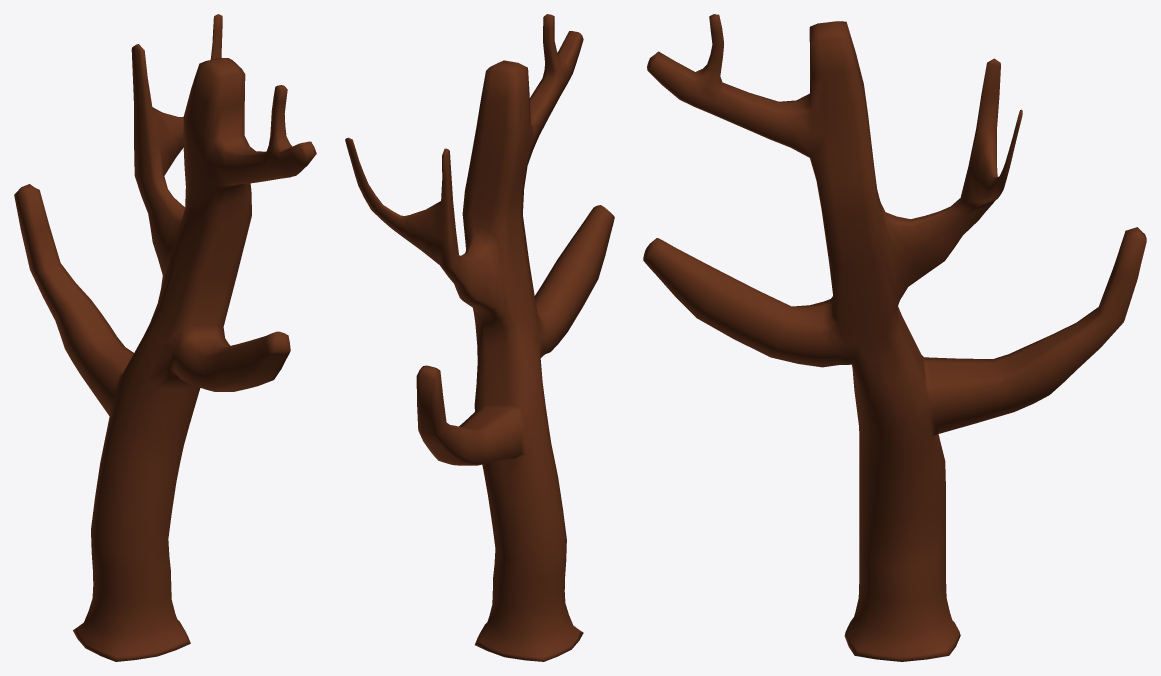
The model's file is wood.fbx.
The picture shows the model from 3 angles, left to right: view 1: azimuth 30°, elevation 25°; view 2: azimuth 150°, elevation 25°; view 3: azimuth 270°, elevation 25°; orthographic projection. The views are drawn at different scales.
Visible parts, largest first — view 1: Cube; view 2: Cube; view 3: Cube.
Part boxes in pixels (bbox=[...]): Cube: bbox=[14, 14, 316, 661]; Cube: bbox=[345, 14, 614, 661]; Cube: bbox=[643, 14, 1146, 661].
Bounding box in the file's own units: 752 × 2257 × 1571.
